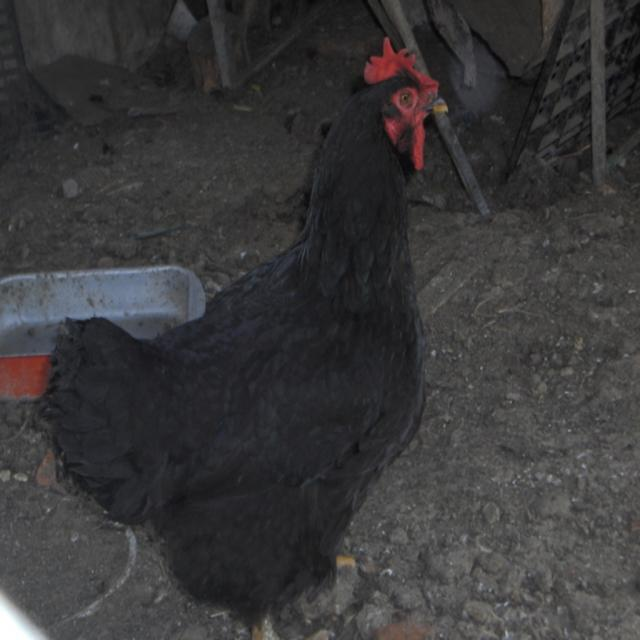Chicken: (41, 37, 427, 639)
